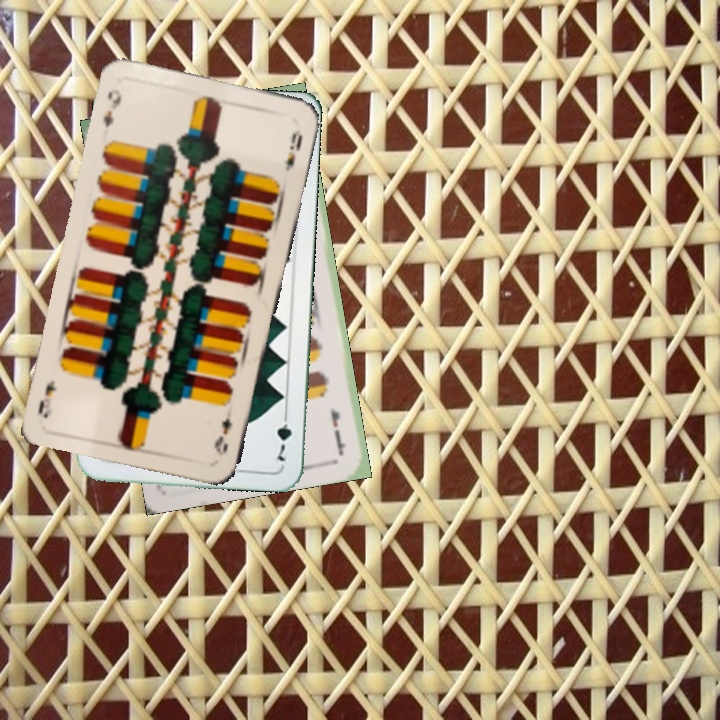E7: (326, 404, 348, 456)
E9: (99, 85, 124, 130), (212, 413, 235, 459)
G7: (273, 406, 295, 464)
